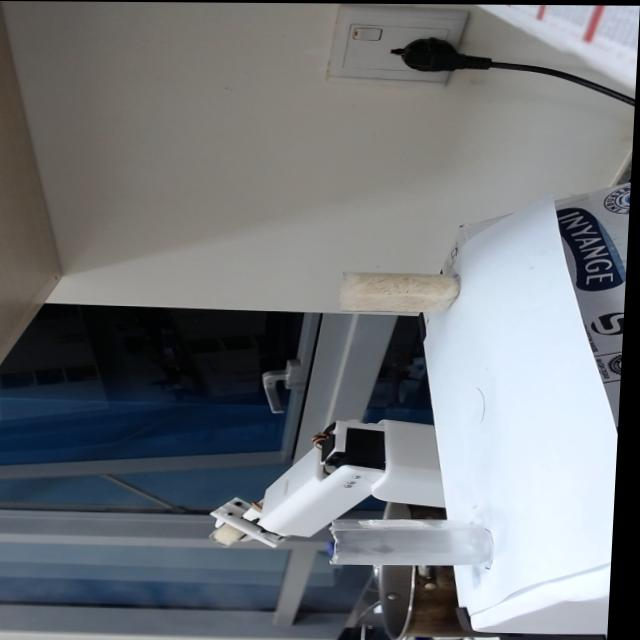raw_rice: (343, 273, 464, 311)
